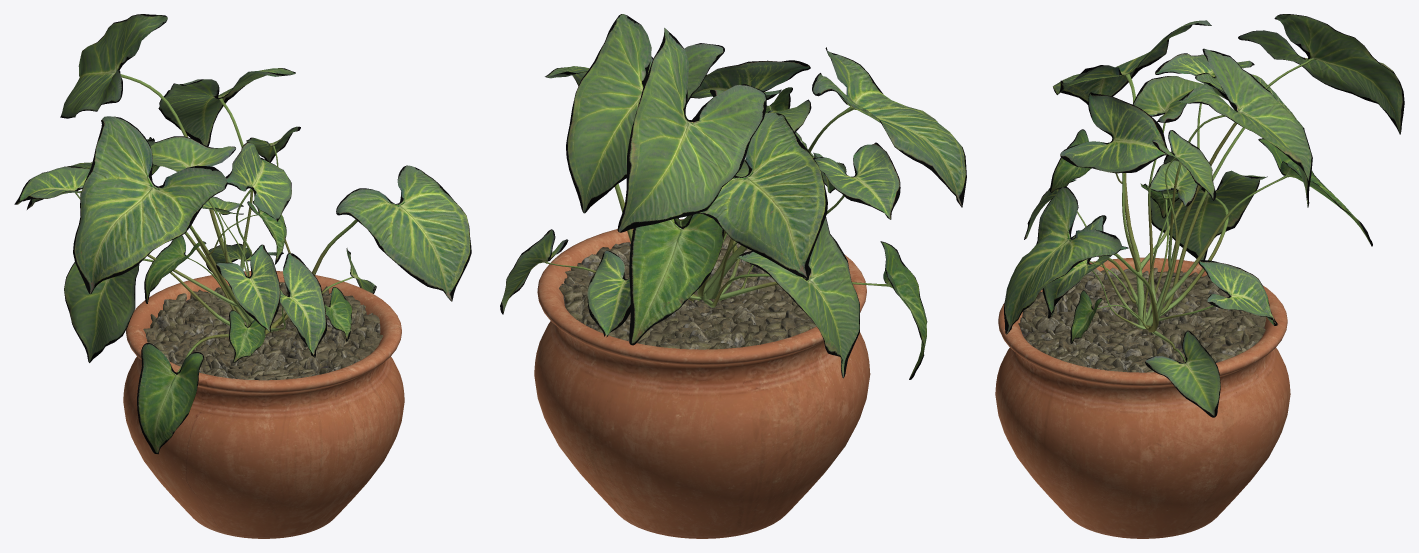
The picture shows the model from 3 angles, left to right: view 1: azimuth 30°, elevation 25°; view 2: azimuth 150°, elevation 25°; view 3: azimuth 270°, elevation 25°; orthographic projection. The views are drawn at different scales.
Parts seen in each view (by area): view 1: leaves, pot, ground; view 2: leaves, pot, ground; view 3: leaves, pot, ground.
Part boxes in pixels (x1,y1,x2,y2): leaves: [14, 14, 471, 454]; pot: [123, 271, 404, 538]; ground: [143, 282, 383, 380]; leaves: [500, 14, 966, 379]; pot: [534, 219, 870, 538]; ground: [559, 234, 816, 349]; leaves: [1004, 14, 1404, 417]; pot: [995, 257, 1290, 538]; ground: [1018, 267, 1266, 372].
Bounding box in the file's own units: 0.7012 × 0.8412 × 0.6574.
Materials: 2 (2 with a texture image).
